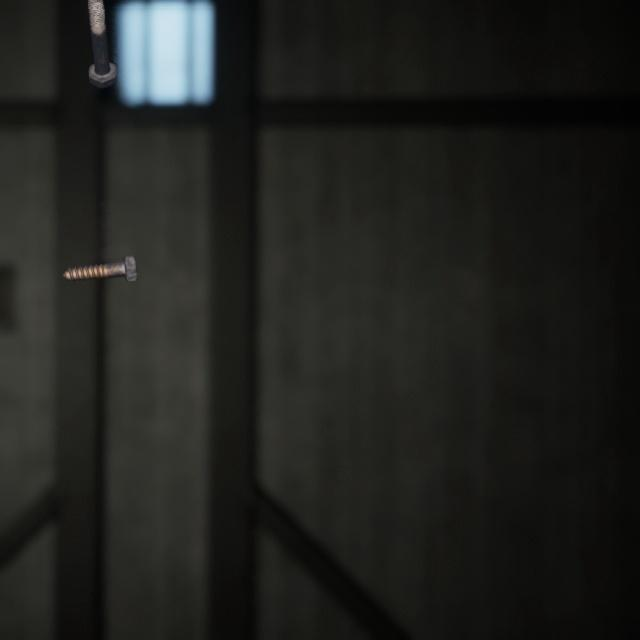bolt: (84, 0, 121, 84), (58, 234, 142, 269)
